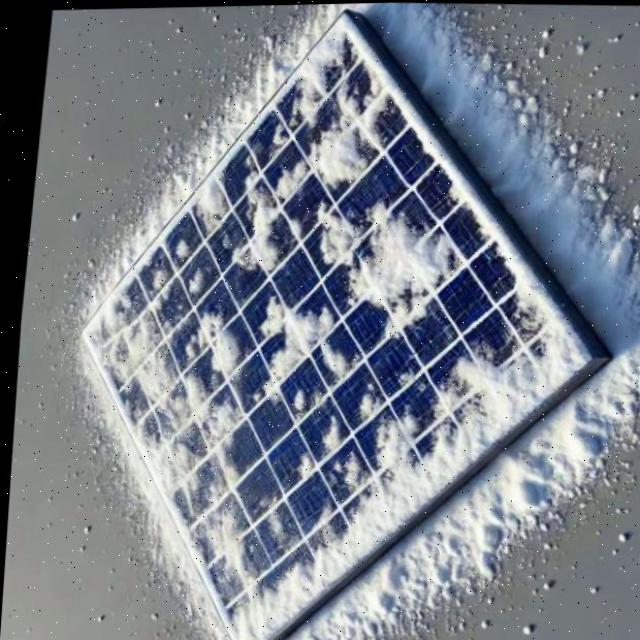Anomaly Solar Panel: (13, 7, 614, 640)
Snow: (12, 7, 616, 640), (27, 42, 568, 585), (277, 151, 470, 345), (242, 275, 363, 405), (277, 378, 324, 424), (313, 412, 343, 453), (291, 446, 313, 484)
